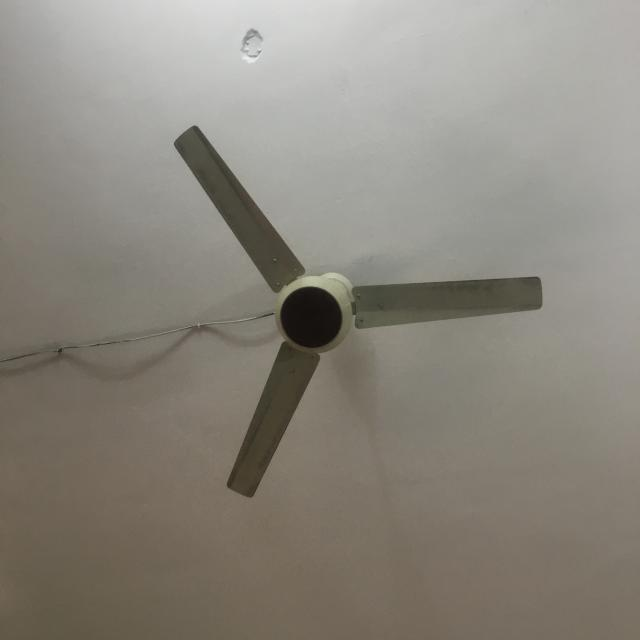off: (166, 115, 547, 503)
